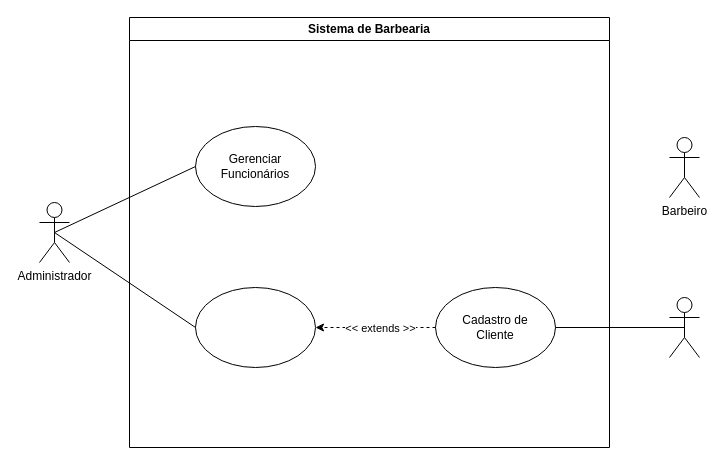
Some shapes in this 724 by 465 pixel diagram are drawn without their labels. The shapes that lost their labels are listed below. From the top down, each one's centre as x and y in pixels, then its label:
At point 255,327: "Gerenciar Cliente".
At point 684,327: "Cliente".
